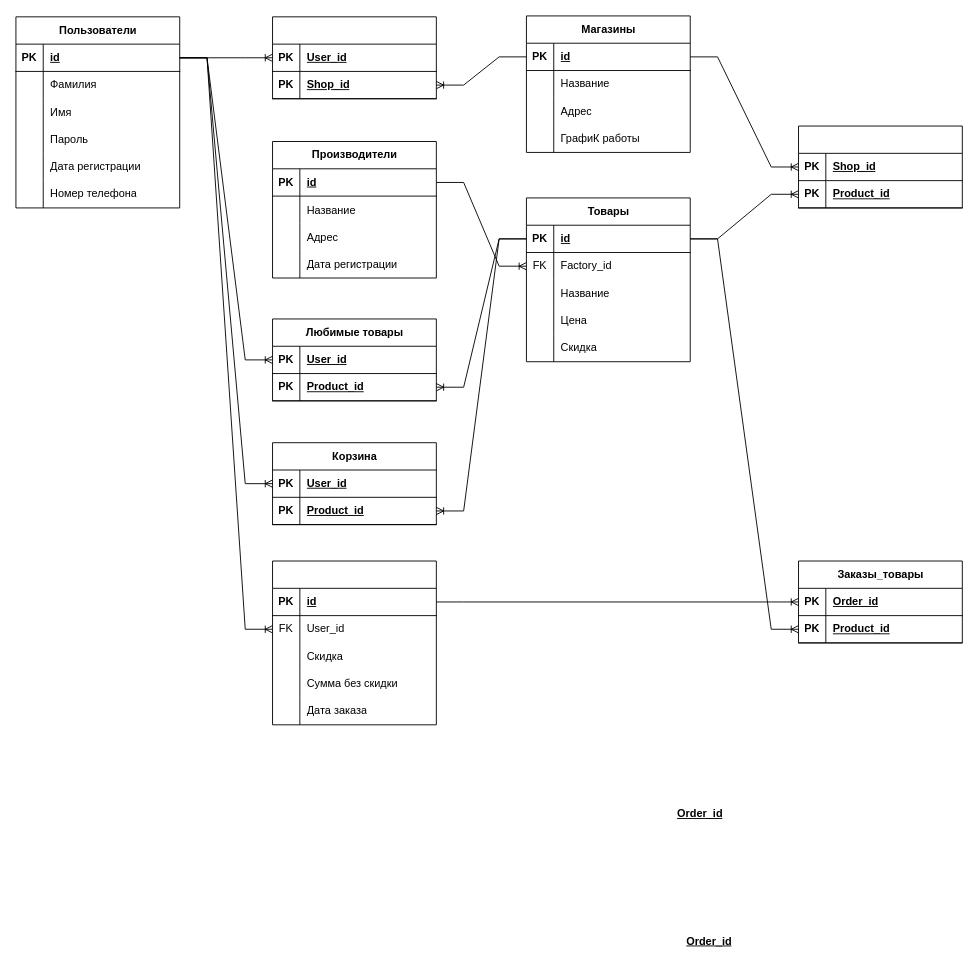
Some shapes in this 978 by 971 pixel diagram are drawn without their labels. Here are the shapes that lost their labels. From the top down, the box of each, then its label:
(272, 16, 436, 99): Любимые магазины
(798, 125, 962, 208): Магазины_товары
(272, 560, 436, 725): Заказы
